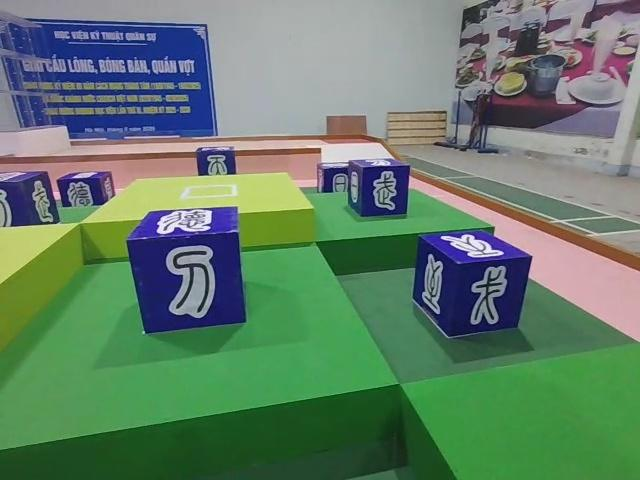R2 Fake Blue: (125, 205, 253, 330), (413, 224, 531, 341), (345, 158, 412, 220), (0, 167, 62, 229), (56, 167, 114, 210), (193, 144, 236, 174), (316, 161, 351, 193)
